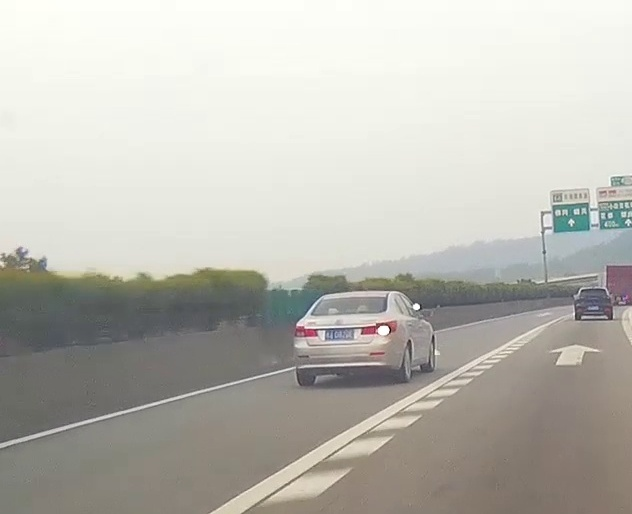L_light: (294, 326, 318, 338), (575, 298, 583, 301)
R_light: (361, 319, 397, 335), (602, 297, 610, 301)
T_light: (347, 295, 362, 300), (590, 289, 596, 291)
day-no: (574, 287, 614, 320)
day-right: (294, 290, 398, 386)
